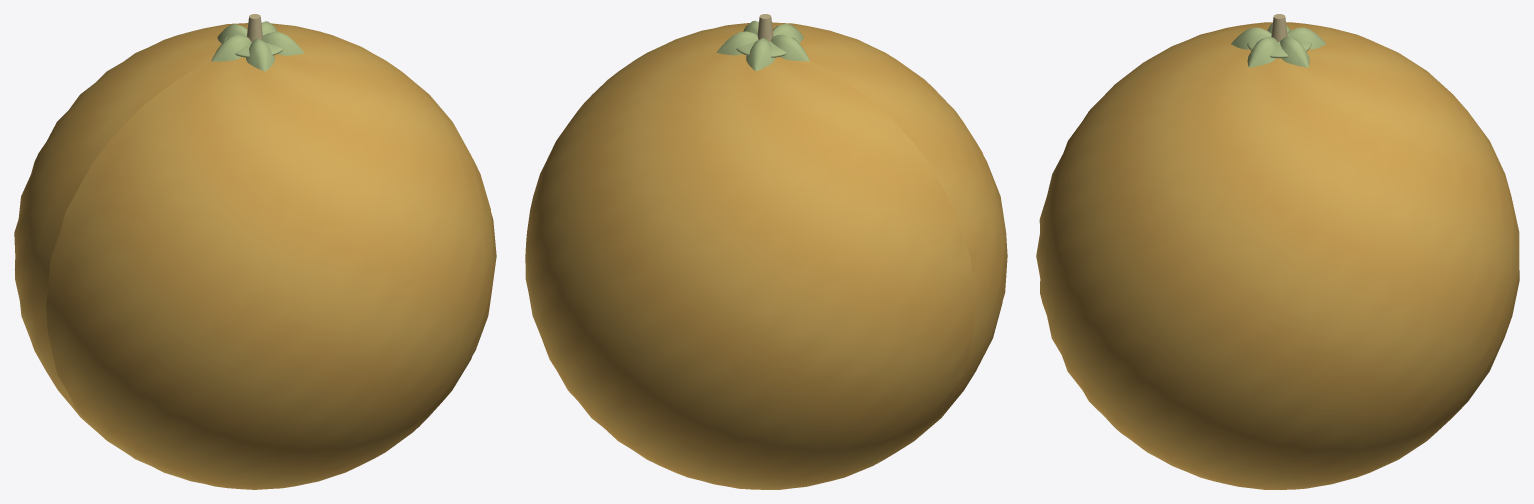
The model's file is orange.glb.
3 renders of one model, left to right at view 1: azimuth 30°, elevation 25°; view 2: azimuth 150°, elevation 25°; view 3: azimuth 270°, elevation 25°, orthographic.
Visible parts, largest first — view 1: library-orange-pored-orange, library-orange-product-orange-calyx; view 2: library-orange-pored-orange, library-orange-product-orange-calyx; view 3: library-orange-pored-orange, library-orange-product-orange-calyx.
Part boxes in pixels (x1,y1,x2,y2): library-orange-pored-orange: [14, 23, 496, 489]; library-orange-product-orange-calyx: [211, 21, 304, 71]; library-orange-pored-orange: [525, 22, 1007, 489]; library-orange-product-orange-calyx: [716, 20, 809, 70]; library-orange-pored-orange: [1036, 22, 1519, 489]; library-orange-product-orange-calyx: [1231, 23, 1326, 67].
Bounding box in the file's own units: 0.082 × 0.0845 × 0.0822.
